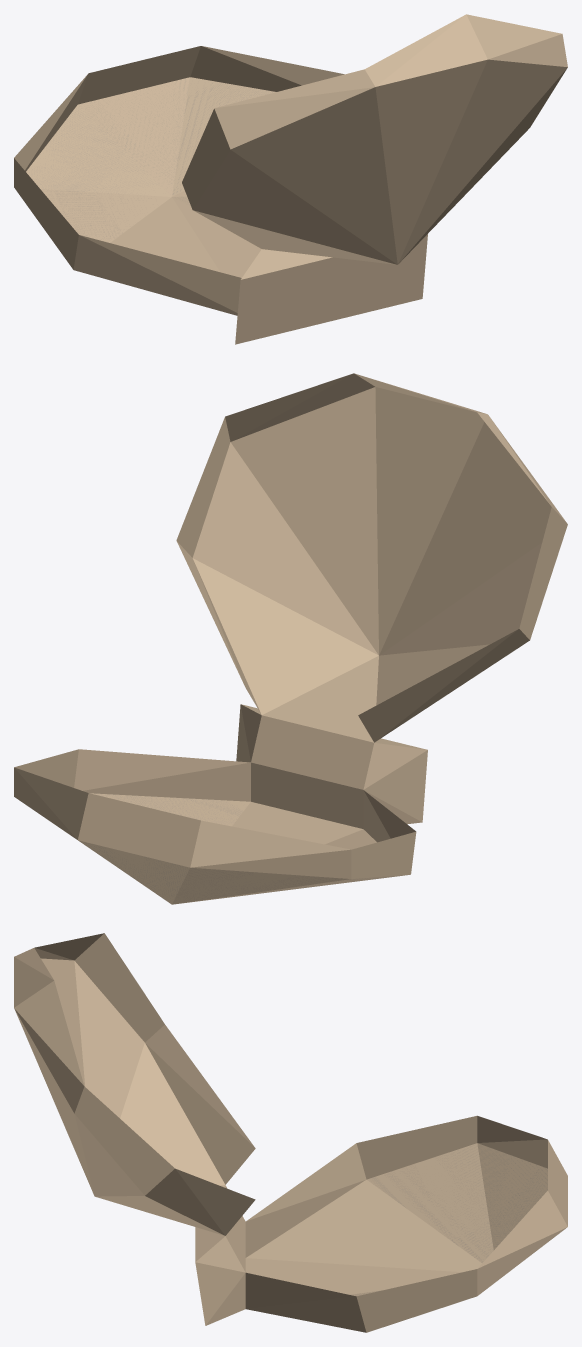
The model's file is inv_empty_oyster.obj.
The picture shows the model from 3 angles, top to bottom: view 1: azimuth 30°, elevation 25°; view 2: azimuth 150°, elevation 25°; view 3: azimuth 270°, elevation 25°; orthographic projection. The views are drawn at different scales.
Bounding box in the file's own units: 0.2812 × 0.2812 × 0.4297.
